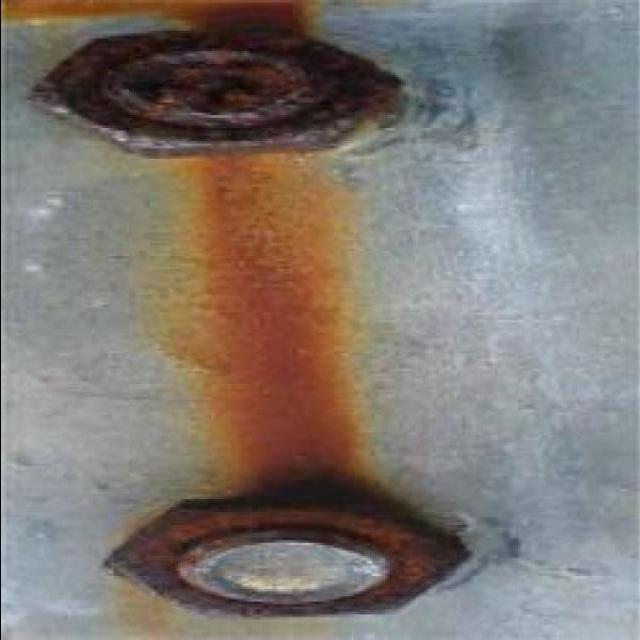Crack: (103, 475, 476, 619)
